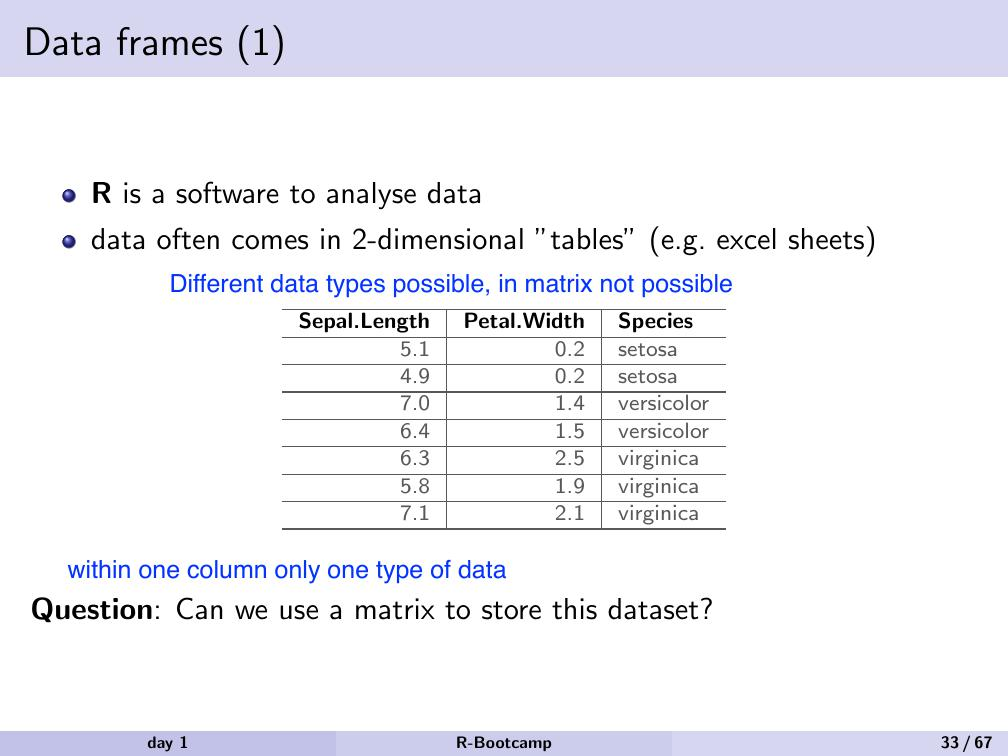Title: (20, 13, 288, 77)
